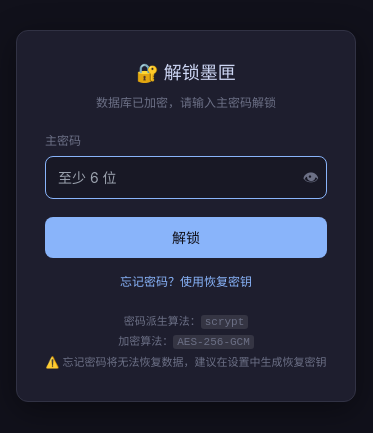
it: 解锁页退避倒计时 › 普通错密码（无 retryAfterMs）：只报错，按钮仍可点
The image size is (373, 433).
Type "wrong" into the password field with placeholder "至少 6 位". click: (186, 177)
box: [45, 156, 327, 199]
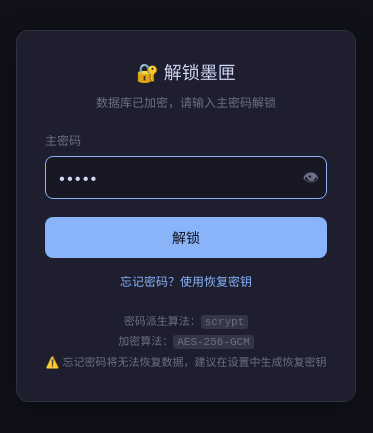
Click the button "解锁". click: (186, 237)
box: [45, 217, 327, 258]
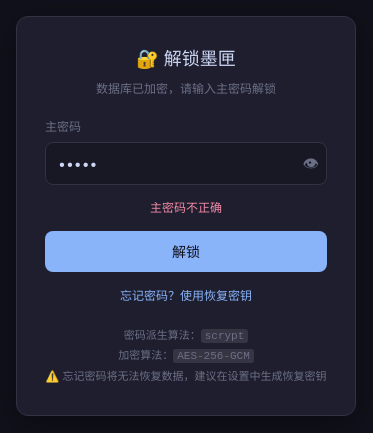
Expected: the button "解锁" is enabled, [45, 231, 327, 272]
Expected: the text "主密码不正确" is shown, [150, 200, 222, 215]
